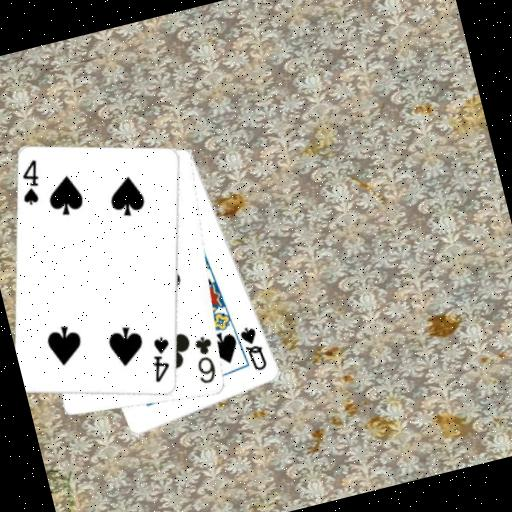4S: (143, 333, 180, 386), (12, 156, 49, 209)
6C: (187, 332, 224, 388)
QS: (236, 322, 271, 376)
